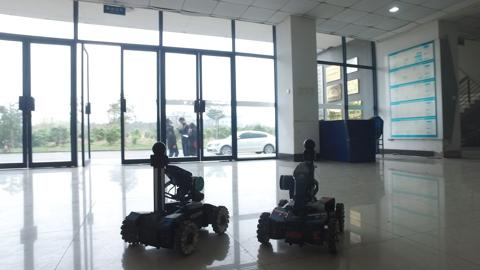chariot: (119, 140, 238, 257), (255, 139, 358, 251)
